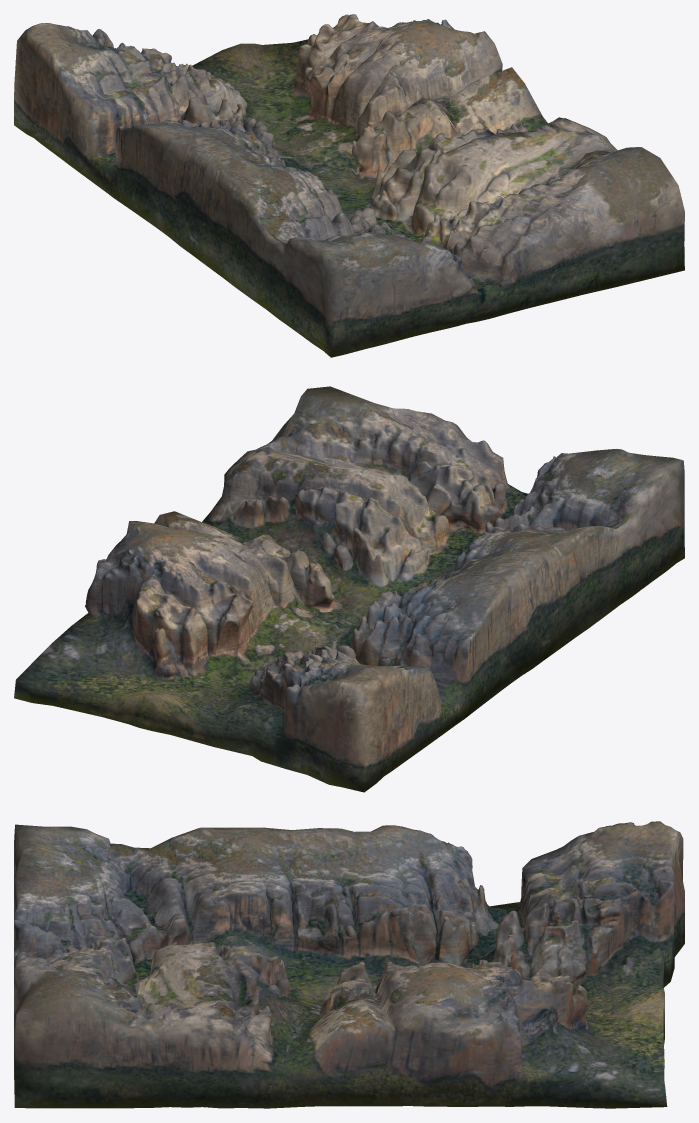
The model's file is Desfiladeiro.gltf.
3 renders of one model, top to bottom at view 1: azimuth 30°, elevation 25°; view 2: azimuth 150°, elevation 25°; view 3: azimuth 270°, elevation 25°, orthographic. The views are drawn at different scales.
Visible parts, largest first — view 1: AR_Desfiladeiro; view 2: AR_Desfiladeiro; view 3: AR_Desfiladeiro.
Part boxes in pixels (x1=…): AR_Desfiladeiro: x1=14, y1=14, x2=684, y2=357; AR_Desfiladeiro: x1=14, y1=386, x2=684, y2=792; AR_Desfiladeiro: x1=14, y1=821, x2=684, y2=1108.
Size of the model in its own units: 38.76 by 11.42 by 60.26.
Materials: 1 (1 with a texture image).
